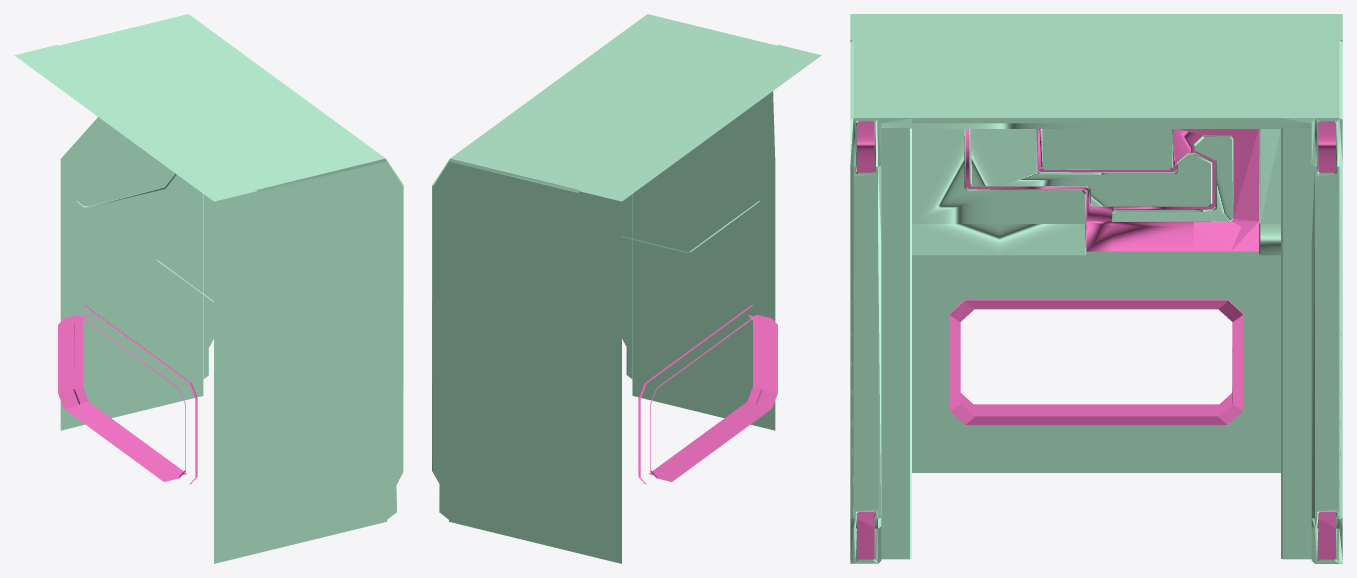
File: uee_stanton_kit_ext_window_4x8x8_01_reg.glb
3 views of the same model, side by side, from view 1: azimuth 30°, elevation 25°; view 2: azimuth 150°, elevation 25°; view 3: azimuth 270°, elevation 25° (orthographic). The views are drawn at different scales.
Size of the model in its own units: 4.41 by 8 by 8.
